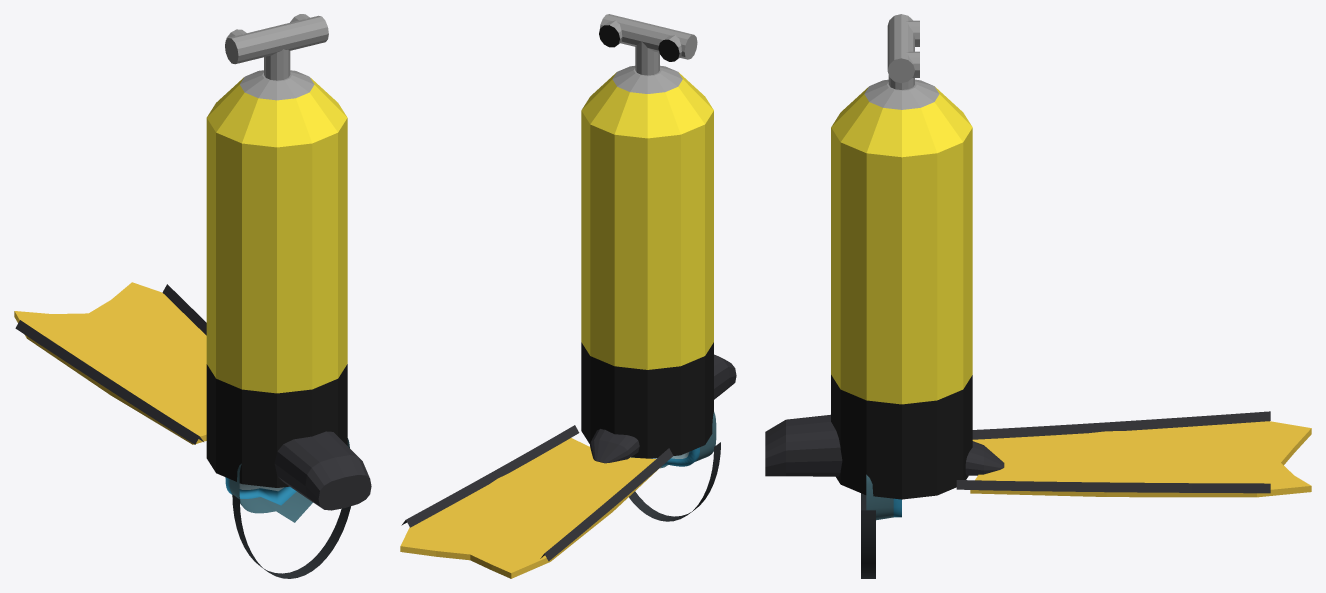
Rendered from scuba_kit.glb.
3 renders of one model, left to right at view 1: azimuth 30°, elevation 25°; view 2: azimuth 150°, elevation 25°; view 3: azimuth 270°, elevation 25°, orthographic. The views are drawn at different scales.
Parts seen in each view (by area): view 1: scuba_tank, scuba_fin, scuba_mask; view 2: scuba_tank, scuba_fin, scuba_mask; view 3: scuba_tank, scuba_fin, scuba_mask.
Part boxes in pixels (bbox=[...]): scuba_tank: bbox=[206, 14, 347, 487]; scuba_fin: bbox=[14, 282, 371, 510]; scuba_mask: bbox=[225, 438, 350, 578]; scuba_tank: bbox=[581, 14, 713, 458]; scuba_fin: bbox=[400, 354, 736, 578]; scuba_mask: bbox=[629, 412, 720, 521]; scuba_tank: bbox=[831, 14, 972, 499]; scuba_fin: bbox=[765, 411, 1311, 497]; scuba_mask: bbox=[861, 474, 901, 578].
Size of the model in its own units: 0.266 by 0.87 by 0.8.
